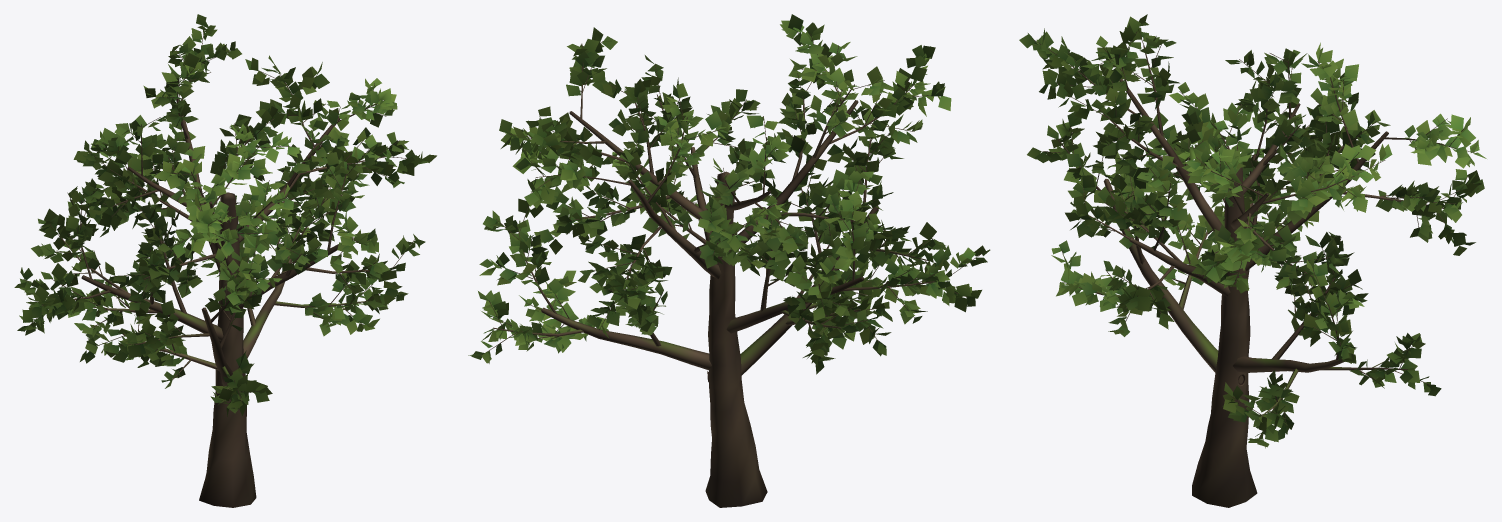
Rendered from oak-a.lod0.glb.
3 renders of one model, left to right at view 1: azimuth 30°, elevation 25°; view 2: azimuth 150°, elevation 25°; view 3: azimuth 270°, elevation 25°, orthographic. The views are drawn at different scales.
Size of the model in its own units: 9.36 by 8.66 by 8.06.
